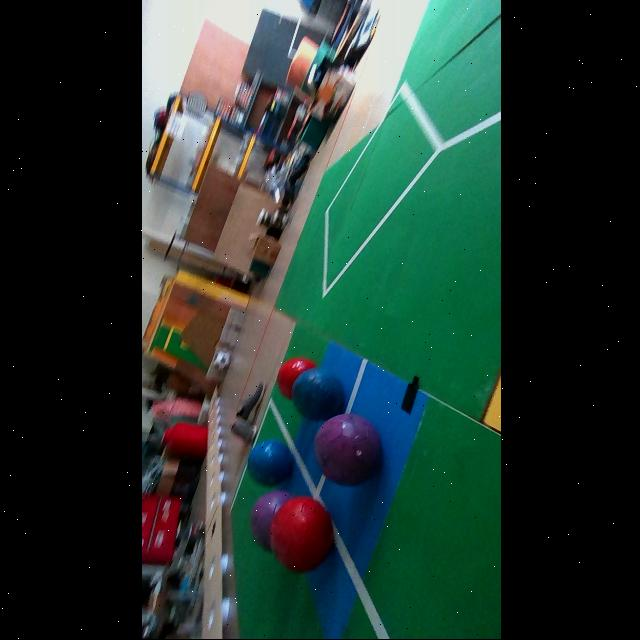B: (290, 368, 342, 422), (246, 440, 292, 488)
P: (312, 415, 380, 486), (247, 490, 290, 552)
R: (269, 497, 332, 574), (275, 358, 313, 400)
